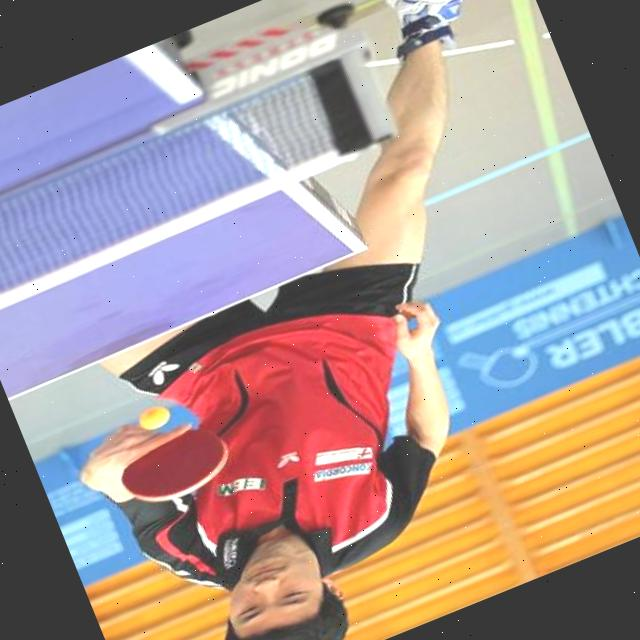ping-pong-ball: (132, 400, 173, 434)
